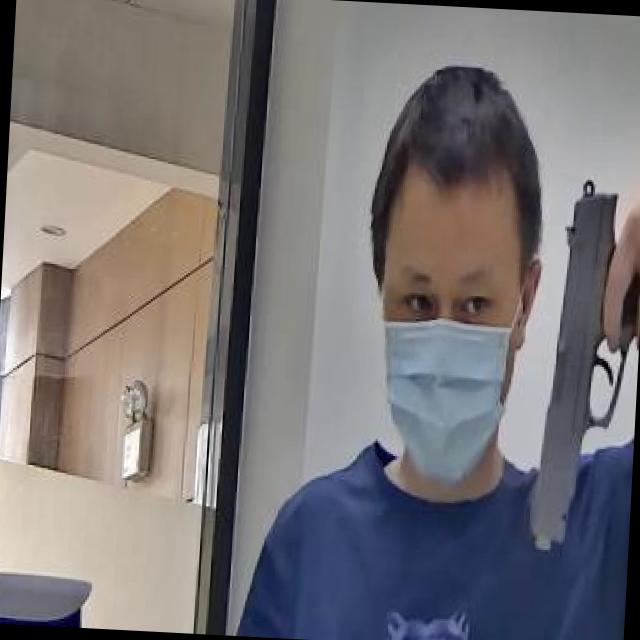Guns: (473, 141, 640, 570)
